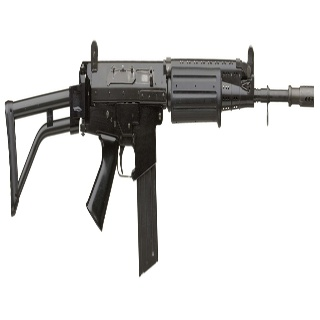rifle: (3, 40, 316, 276)
